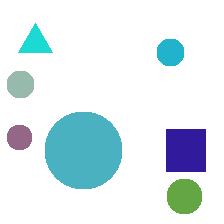circle: (45, 112, 121, 188), (167, 179, 201, 213), (7, 71, 33, 97), (157, 39, 183, 65), (7, 125, 31, 149)
rectangle: (166, 129, 205, 171)
triangle: (18, 23, 52, 52)
